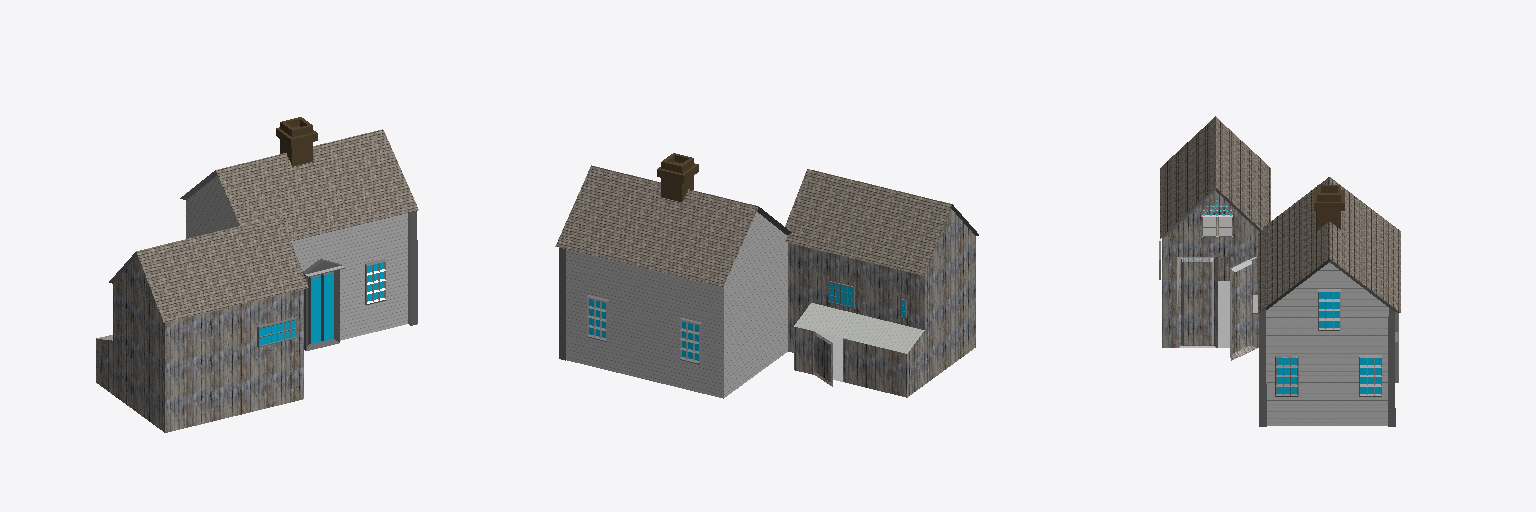
3 views of the same model, side by side, from view 1: azimuth 30°, elevation 25°; view 2: azimuth 150°, elevation 25°; view 3: azimuth 270°, elevation 25° (orthographic).
Visible parts, largest first — view 1: Mesh4 walls1 solon_house_obj Model, Mesh2 roof solon_house_obj Model, Mesh3 roof1 solon_house_obj Model, Mesh1 walls solon_house_obj Model, Mesh12 polySurface2 solon_house_obj Model, Mesh5 beam_support solon_house_obj Model, Mesh14 chimney solon_house_obj Model, Mesh10 window2_ncl1_1 solon_house_obj Model, Mesh58 window_2 solon_house_obj Model; view 2: Mesh1 walls solon_house_obj Model, Mesh4 walls1 solon_house_obj Model, Mesh2 roof solon_house_obj Model, Mesh3 roof1 solon_house_obj Model, Mesh14 chimney solon_house_obj Model, Mesh59 window1_ncl1_2 solon_house_obj Model, Mesh60 window2_ncl1_2 solon_house_obj Model, Mesh6 beam_support1 solon_house_obj Model, Mesh11 window3 solon_house_obj Model; view 3: Mesh1 walls solon_house_obj Model, Mesh4 walls1 solon_house_obj Model, Mesh2 roof solon_house_obj Model, Mesh3 roof1 solon_house_obj Model, Mesh8 window1 solon_house_obj Model, Mesh7 window solon_house_obj Model, Mesh9 window2 solon_house_obj Model, Mesh6 beam_support1 solon_house_obj Model, Mesh5 beam_support solon_house_obj Model, Mesh14 chimney solon_house_obj Model.
Boxes of the visible parts, box(x1,y1,x2,y2) form: Mesh4 walls1 solon_house_obj Model: box(96, 256, 303, 432); Mesh2 roof solon_house_obj Model: box(180, 129, 418, 240); Mesh3 roof1 solon_house_obj Model: box(109, 216, 308, 322); Mesh1 walls solon_house_obj Model: box(186, 175, 407, 340); Mesh12 polySurface2 solon_house_obj Model: box(304, 270, 339, 350); Mesh5 beam_support solon_house_obj Model: box(408, 211, 417, 325); Mesh14 chimney solon_house_obj Model: box(280, 117, 312, 166); Mesh10 window2_ncl1_1 solon_house_obj Model: box(365, 259, 385, 304); Mesh58 window_2 solon_house_obj Model: box(257, 317, 296, 347); Mesh1 walls solon_house_obj Model: box(566, 212, 787, 398); Mesh4 walls1 solon_house_obj Model: box(788, 209, 975, 397); Mesh2 roof solon_house_obj Model: box(555, 165, 791, 286); Mesh3 roof1 solon_house_obj Model: box(785, 169, 978, 275); Mesh14 chimney solon_house_obj Model: box(661, 153, 693, 201); Mesh59 window1_ncl1_2 solon_house_obj Model: box(587, 295, 608, 341); Mesh60 window2_ncl1_2 solon_house_obj Model: box(680, 318, 701, 364); Mesh6 beam_support1 solon_house_obj Model: box(559, 248, 565, 360); Mesh11 window3 solon_house_obj Model: box(828, 281, 854, 308); Mesh1 walls solon_house_obj Model: box(1266, 262, 1388, 425); Mesh4 walls1 solon_house_obj Model: box(1162, 191, 1259, 360); Mesh2 roof solon_house_obj Model: box(1258, 177, 1400, 312); Mesh3 roof1 solon_house_obj Model: box(1160, 116, 1270, 238); Mesh8 window1 solon_house_obj Model: box(1275, 355, 1298, 396); Mesh7 window solon_house_obj Model: box(1318, 289, 1340, 330); Mesh9 window2 solon_house_obj Model: box(1359, 355, 1381, 396); Mesh6 beam_support1 solon_house_obj Model: box(1388, 308, 1395, 426); Mesh5 beam_support solon_house_obj Model: box(1259, 308, 1266, 426); Mesh14 chimney solon_house_obj Model: box(1317, 185, 1340, 230).
Size of the model in its own units: 390 by 241 by 270.
13 materials, 4 textured.